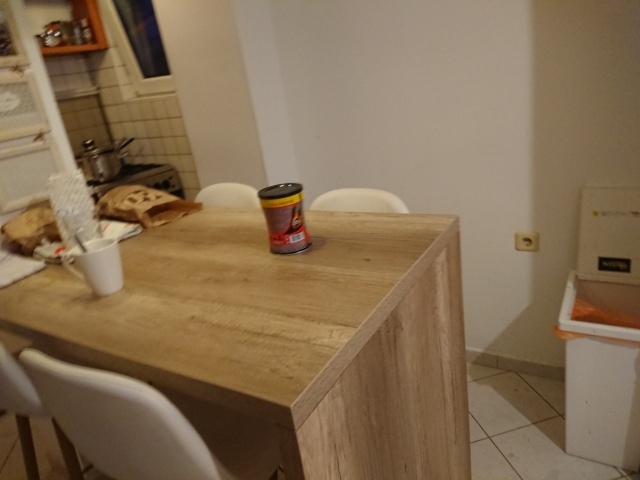Nescafe Classic 225g: (255, 180, 315, 257)
